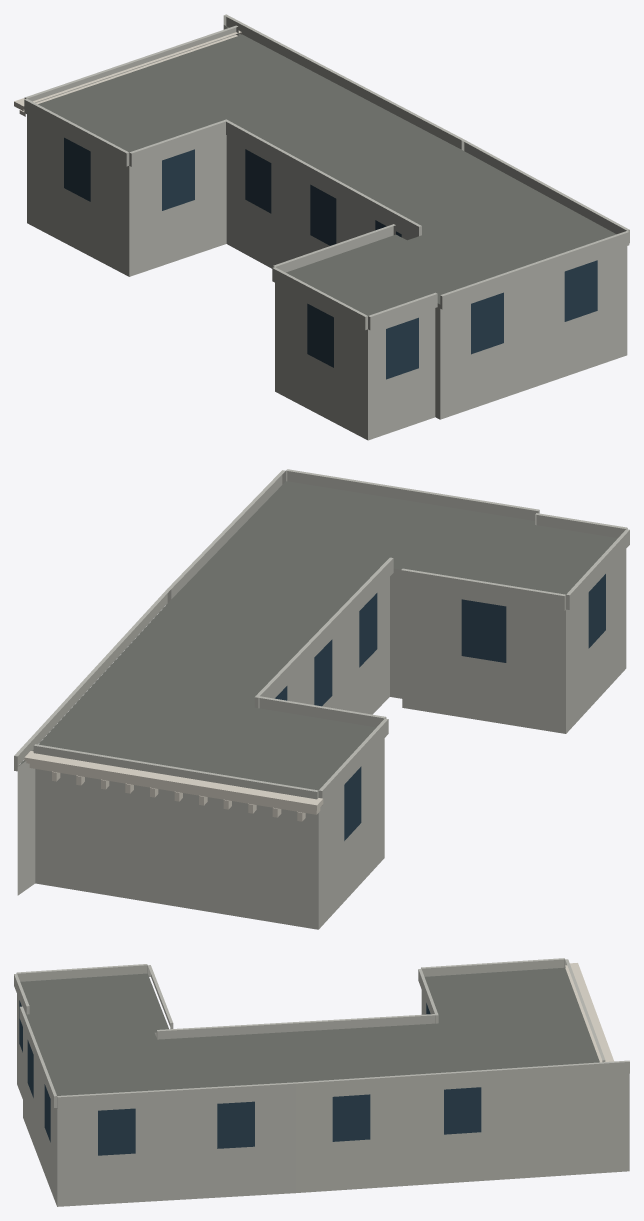
3 views of the same model, one above another, from view 1: azimuth 30°, elevation 25°; view 2: azimuth 150°, elevation 25°; view 3: azimuth 270°, elevation 25° (orthographic). The views are drawn at different scales.
Visible parts, largest first — view 1: Footprint 0 / surface 2, Footprint 0 / surface 1, Facade bay volumes, Inset glazing, Cornices and window frames; view 2: Footprint 0 / surface 2, Footprint 0 / surface 1, Facade bay volumes, Inset glazing, Cornices and window frames; view 3: Footprint 0 / surface 2, Footprint 0 / surface 1, Facade bay volumes, Inset glazing, Cornices and window frames.
Boxes of the visible parts, x1,y1,x2,y2 form: Footprint 0 / surface 2: (27,25,627,440); Footprint 0 / surface 1: (38,25,616,315); Facade bay volumes: (24,14,629,330); Inset glazing: (64,137,597,379); Cornices and window frames: (14,30,241,116); Footprint 0 / surface 2: (17,524,626,929); Footprint 0 / surface 1: (18,481,617,790); Facade bay volumes: (14,469,629,805); Inset glazing: (275,574,605,840); Cornices and window frames: (24,751,323,821); Footprint 0 / surface 2: (17,990,629,1206); Footprint 0 / surface 1: (20,967,599,1095); Facade bay volumes: (14,958,629,1109); Inset glazing: (19,1000,481,1155); Cornices and window frames: (565,963,614,1062).
Size of the model in its own units: 12.71 by 4.68 by 23.55.
